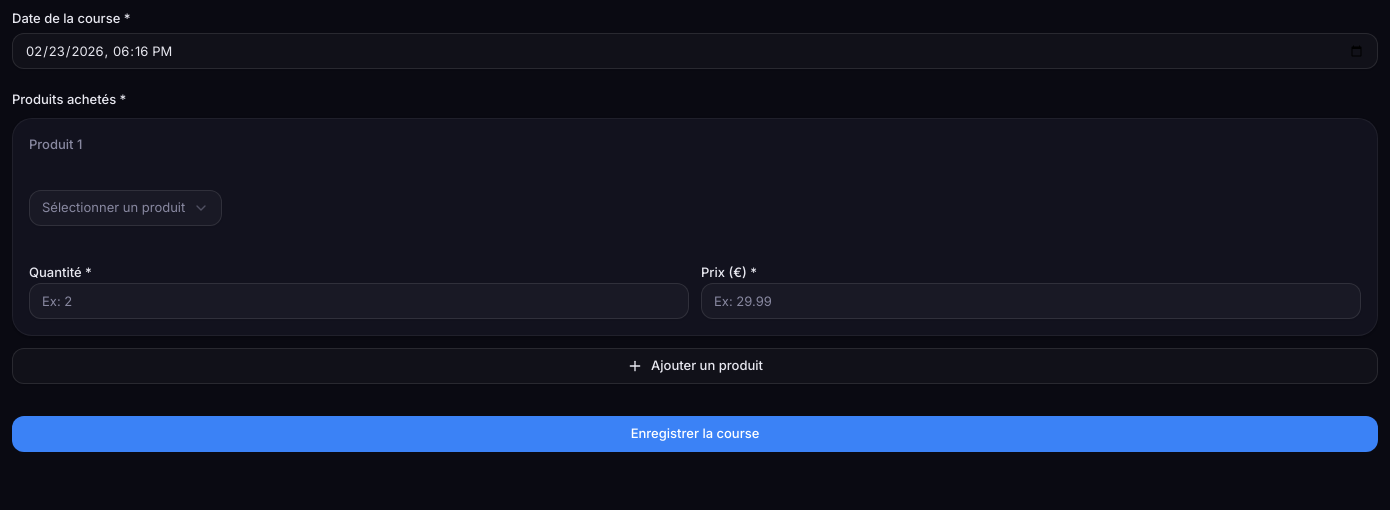
Test: ShoppingForm › affiche une erreur si la quantité est invalide
Type "abc" into the field with placeholder "Ex: 2" at point(359, 301), box [29, 283, 689, 319]
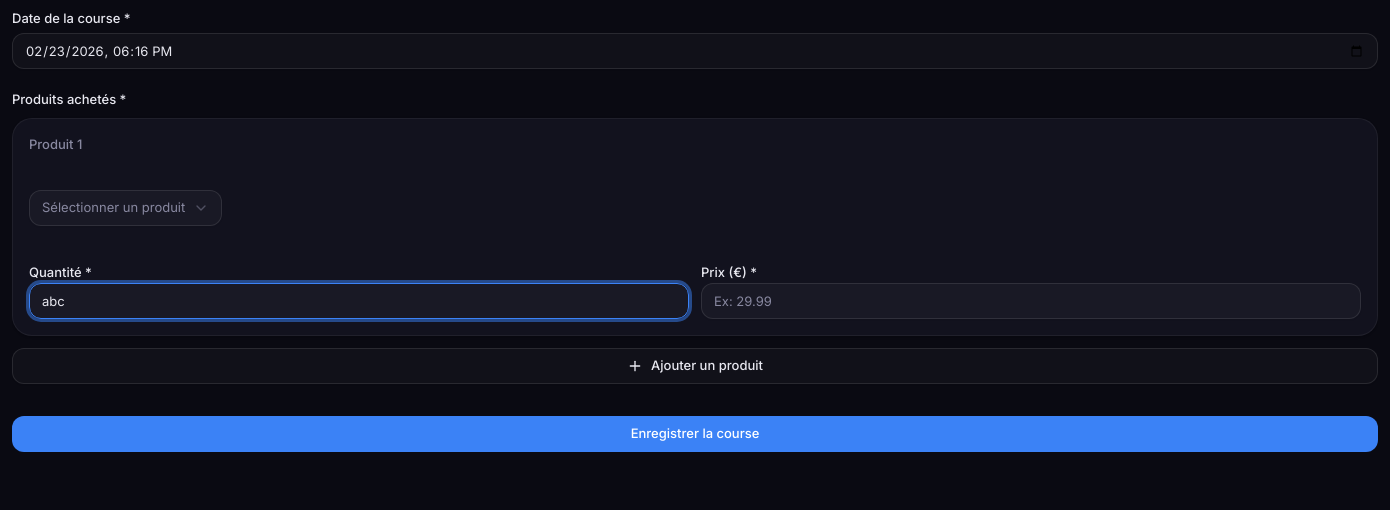
Click the button "Enregistrer la course" at point(695, 434), box [12, 416, 1378, 452]
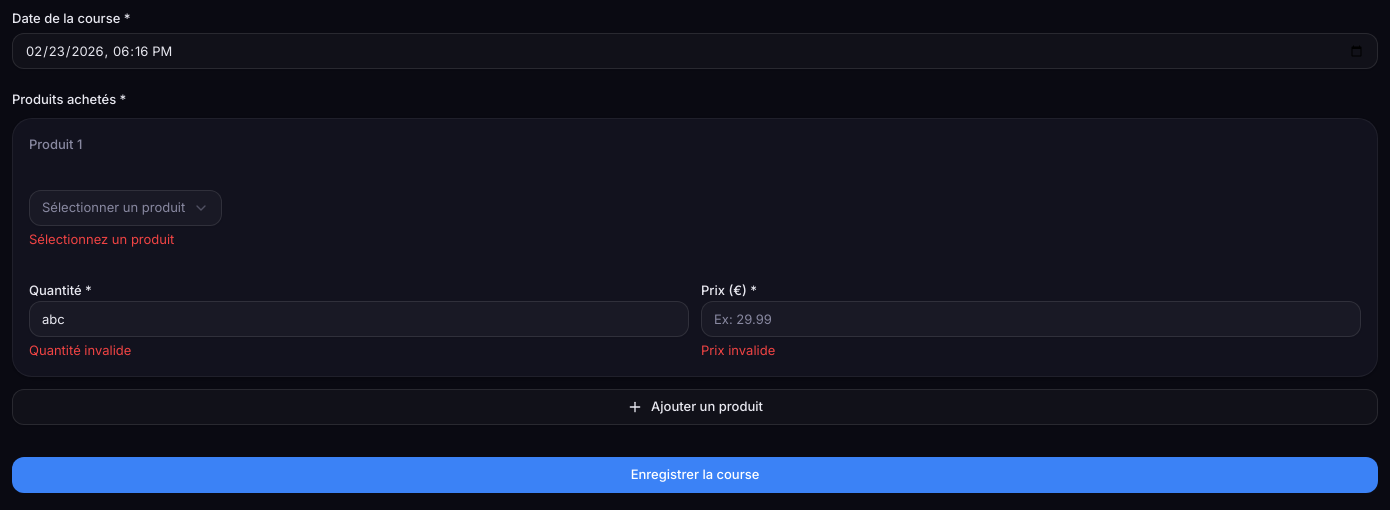
Result: the text "Quantité invalide" is shown at [29, 342, 131, 358]
